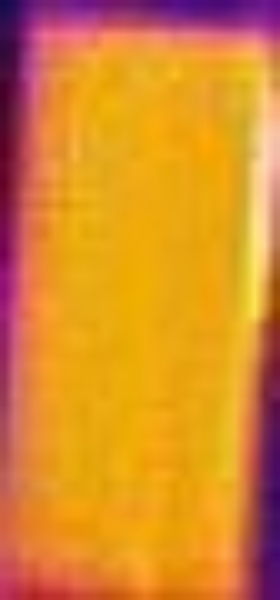Diode: (243, 65, 278, 338)
